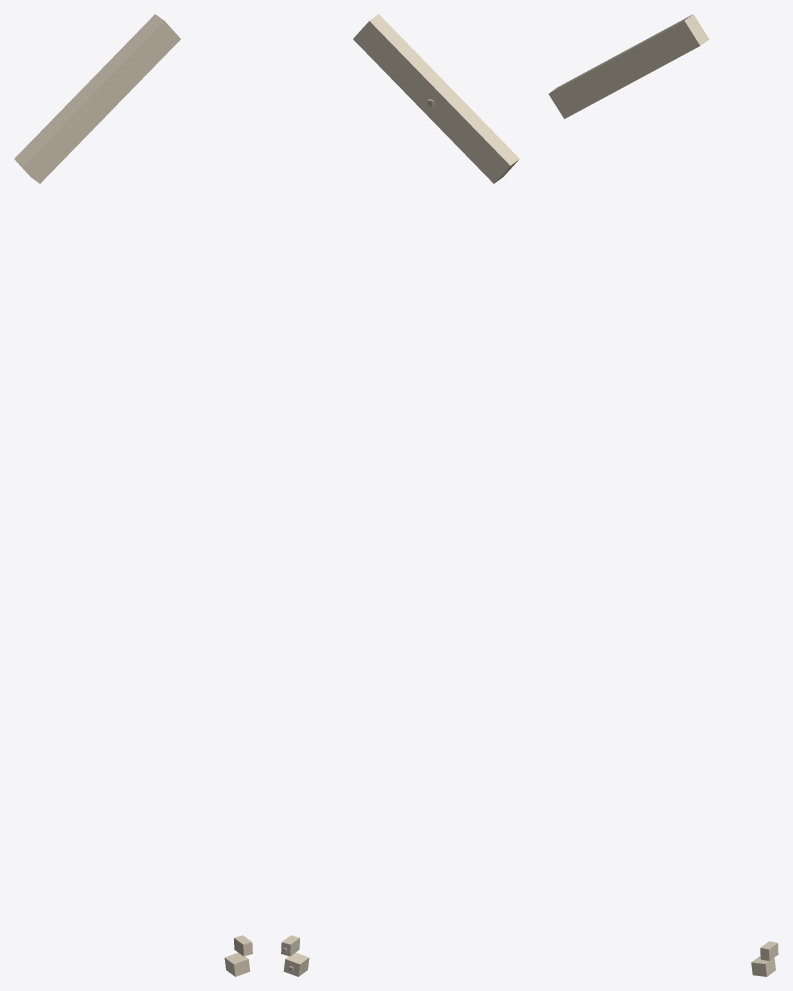
Rendered from historic-palestine-13_38_3553_3323.glb.
3 views of the same model, side by side, from view 1: azimuth 30°, elevation 25°; view 2: azimuth 150°, elevation 25°; view 3: azimuth 330°, elevation 25° (orthographic). The views are drawn at different scales.
Visible parts, largest first — view 1: Building_.002; view 2: Building_.002; view 3: Building_.002.
Boxes of the visible parts, x1,y1,x2,y2 form: Building_.002: [14, 14, 180, 183]; Building_.002: [353, 14, 519, 183]; Building_.002: [548, 14, 709, 118].
Bounding box in the file's own units: 105 × 427 × 8.7.
